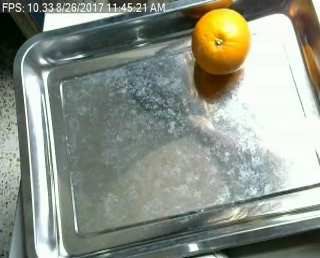Orange: (192, 8, 250, 74)
